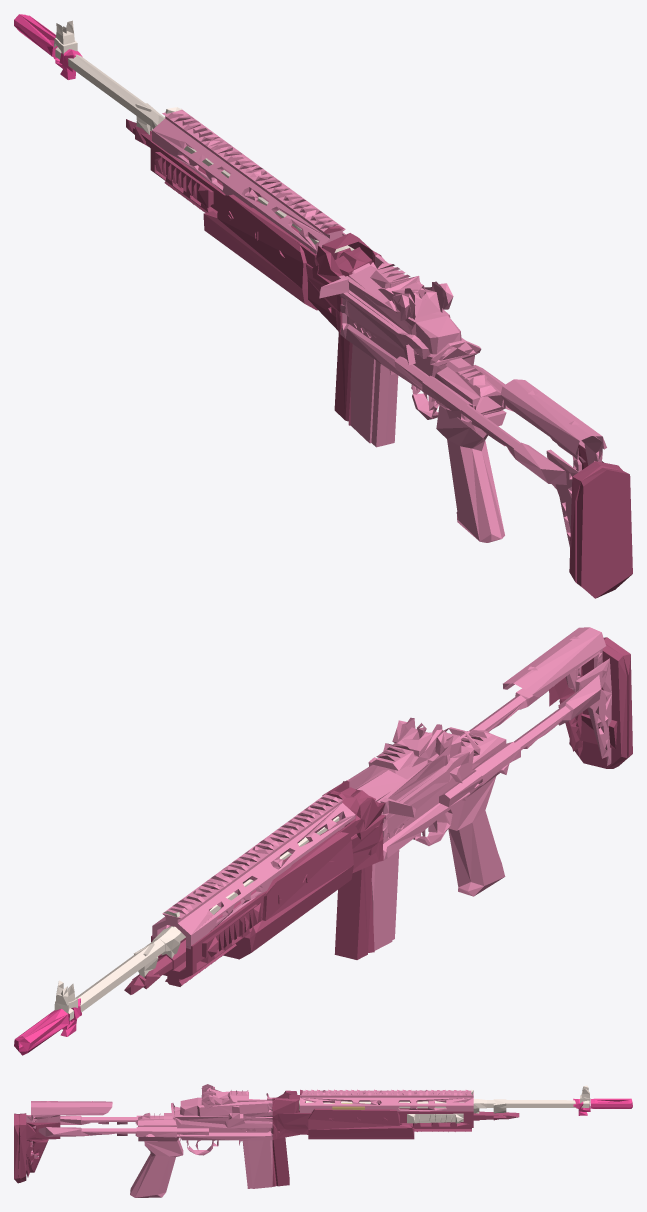
Rendered from Marksman_Mk14.obj.
3 views of the same model, one above another, from view 1: azimuth 30°, elevation 25°; view 2: azimuth 150°, elevation 25°; view 3: azimuth 270°, elevation 25° (orthographic). The views are drawn at different scales.
Visible parts, largest first — view 1: Body, Mag, Grip, Panel, Accent; view 2: Body, Mag, Grip, Panel, Accent; view 3: Body, Mag, Panel, Grip, Accent.
Part boxes in pixels (box(x1,y1,x2,y2)): Body: box(152, 109, 606, 546); Mag: box(126, 119, 381, 425); Grip: box(569, 444, 632, 598); Panel: box(54, 20, 354, 252); Accent: box(14, 14, 82, 79); Body: box(152, 627, 611, 950); Mag: box(124, 781, 385, 994); Grip: box(549, 637, 632, 768); Panel: box(54, 816, 339, 1020); Accent: box(14, 998, 81, 1055); Body: box(26, 1084, 473, 1197); Mag: box(272, 1089, 519, 1186); Panel: box(299, 1085, 590, 1123); Grip: box(14, 1113, 60, 1183); Accent: box(573, 1098, 632, 1115).
Size of the model in its own units: 0.2994 by 0.7401 by 3.8.
